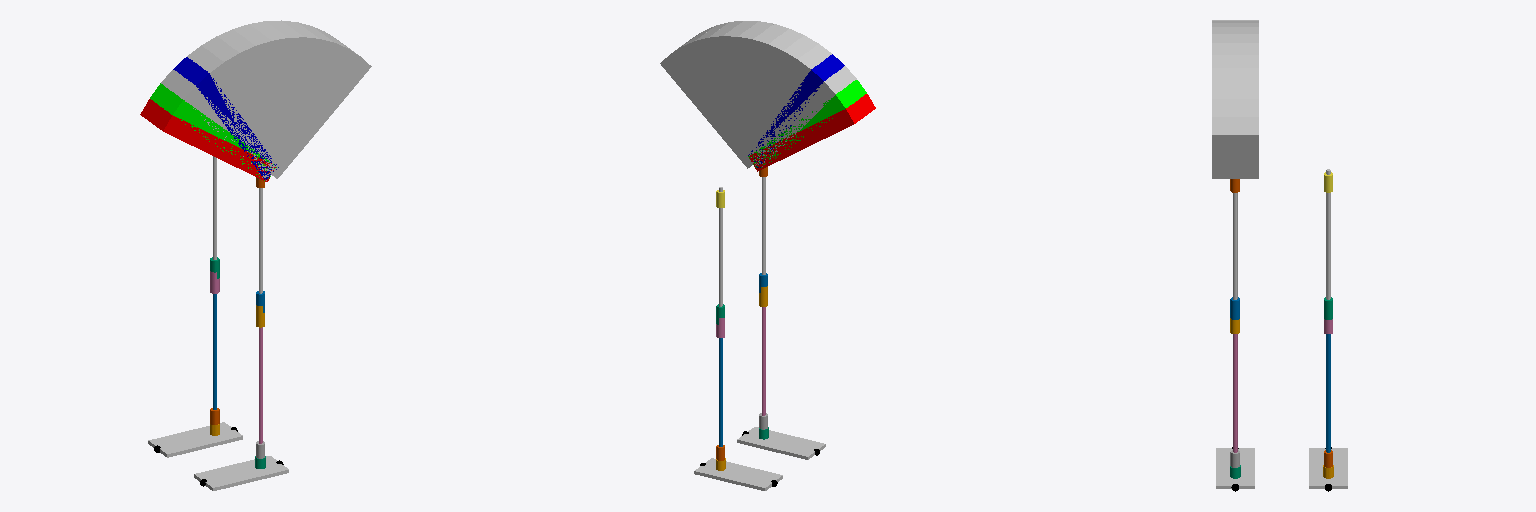
robot.urdf — spring_flamingo:
<?xml version="1.0" ?>
<!-- =================================================================================== -->
<!-- |    This document was autogenerated by xacro from spring_flamingo.xacro          | -->
<!-- |    EDITING THIS FILE BY HAND IS NOT RECOMMENDED                                 | -->
<!-- =================================================================================== -->
<!-- spring_flamingo revision 3 for questions/bugs/etc. email woursler@gmail.com-->
<robot name="spring_flamingo" xmlns:xacro="http://www.ros.org/wiki/xacro">
  <!-- body property xacros -->
  <!--measured relative to the center of the line connecting the hips-->
  <!-- upper leg property xacros -->
  <!-- lower leg property xacros -->
  <!-- foot property xacros -->
  <!-- Encapsulates the body code.-->
  <!-- Defines a ground contact point xacro-->
  <!-- Defines a leg xacro. Most of the action is here.-->
  <link name="base_link">
    <inertial>
      <origin rpy="0 0 0" xyz="0 0 0.20"/>
      <mass value="12"/>
      <inertia ixx=".25" ixy="0" ixz="0" iyy=".25" iyz="0" izz=".25"/>
    </inertial>
  </link>
  <link name="left_fan">
  </link>
  <joint name="left_fan_fixed_joint" type="fixed">
    <parent link="base_link"/>
    <child link="left_fan"/>
    <origin rpy="0 0 0" xyz="0 -0.12 0"/>
    <axis xyz="0 1 0"/>
  </joint>
  <link name="left_strut_1">
    <visual>
      <geometry>
        <box size="0.05 0.12 0.385"/>
      </geometry>
      <origin rpy="0 0 0" xyz="0 0 0.1925"/>
      <material name="grey">
        <color rgba="1.0 0.0 0.0 1"/>
      </material>
    </visual>
  </link>
  <joint name="left_fixed_joint_1" type="fixed">
    <parent link="left_fan"/>
    <child link="left_strut_1"/>
    <origin rpy="0 -0.959931089 0" xyz="0 0 0"/>
    <axis xyz="0 1 0"/>
  </joint>
  <link name="left_strut_2">
    <visual>
      <geometry>
        <box size="0.05 0.12 0.385"/>
      </geometry>
      <origin rpy="0 0 0" xyz="0 0 0.1925"/>
      <material name="grey">
        <color rgba="0.0 1.0 0.0 1"/>
      </material>
    </visual>
  </link>
  <joint name="left_fixed_joint_2" type="fixed">
    <parent link="left_fan"/>
    <child link="left_strut_2"/>
    <origin rpy="0 -0.831940277 0" xyz="0 0 0"/>
    <axis xyz="0 1 0"/>
  </joint>
  <link name="left_strut_3">
    <visual>
      <geometry>
        <box size="0.05 0.12 0.385"/>
      </geometry>
      <origin rpy="0 0 0" xyz="0 0 0.1925"/>
      <material name="grey">
        <color rgba=".8 .8 .8 1"/>
      </material>
    </visual>
  </link>
  <joint name="left_fixed_joint_3" type="fixed">
    <parent link="left_fan"/>
    <child link="left_strut_3"/>
    <origin rpy="0 -0.703949465 0" xyz="0 0 0"/>
    <axis xyz="0 1 0"/>
  </joint>
  <link name="left_strut_4">
    <visual>
      <geometry>
        <box size="0.05 0.12 0.385"/>
      </geometry>
      <origin rpy="0 0 0" xyz="0 0 0.1925"/>
      <material name="grey">
        <color rgba="0.0 0.0 .8 1"/>
      </material>
    </visual>
  </link>
  <joint name="left_fixed_joint_4" type="fixed">
    <parent link="left_fan"/>
    <child link="left_strut_4"/>
    <origin rpy="0 -0.575958653 0" xyz="0 0 0"/>
    <axis xyz="0 1 0"/>
  </joint>
  <link name="left_strut_5">
    <visual>
      <geometry>
        <box size="0.05 0.12 0.385"/>
      </geometry>
      <origin rpy="0 0 0" xyz="0 0 0.1925"/>
      <material name="grey">
        <color rgba=".8 .8 .8 1"/>
      </material>
    </visual>
  </link>
  <joint name="left_fixed_joint_5" type="fixed">
    <parent link="left_fan"/>
    <child link="left_strut_5"/>
    <origin rpy="0 -0.447967841 0" xyz="0 0 0"/>
    <axis xyz="0 1 0"/>
  </joint>
  <link name="left_strut_6">
    <visual>
      <geometry>
        <box size="0.05 0.12 0.385"/>
      </geometry>
      <origin rpy="0 0 0" xyz="0 0 0.1925"/>
      <material name="grey">
        <color rgba=".8 .8 .8 1"/>
      </material>
    </visual>
  </link>
  <joint name="left_fixed_joint_6" type="fixed">
    <parent link="left_fan"/>
    <child link="left_strut_6"/>
    <origin rpy="0 -0.319977029 0" xyz="0 0 0"/>
    <axis xyz="0 1 0"/>
  </joint>
  <link name="left_strut_7">
    <visual>
      <geometry>
        <box size="0.05 0.12 0.385"/>
      </geometry>
      <origin rpy="0 0 0" xyz="0 0 0.1925"/>
      <material name="grey">
        <color rgba=".8 .8 .8 1"/>
      </material>
    </visual>
  </link>
  <joint name="left_fixed_joint_7" type="fixed">
    <parent link="left_fan"/>
    <child link="left_strut_7"/>
    <origin rpy="0 -0.191986217 0" xyz="0 0 0"/>
    <axis xyz="0 1 0"/>
  </joint>
  <link name="left_strut_8">
    <visual>
      <geometry>
        <box size="0.05 0.12 0.385"/>
      </geometry>
      <origin rpy="0 0 0" xyz="0 0 0.1925"/>
      <material name="grey">
        <color rgba=".8 .8 .8 1"/>
      </material>
    </visual>
  </link>
  <joint name="left_fixed_joint_8" type="fixed">
    <parent link="left_fan"/>
    <child link="left_strut_8"/>
    <origin rpy="0 -0.063995405 0" xyz="0 0 0"/>
    <axis xyz="0 1 0"/>
  </joint>
  <link name="left_strut_9">
    <visual>
      <geometry>
        <box size="0.05 0.12 0.385"/>
      </geometry>
      <origin rpy="0 0 0" xyz="0 0 0.1925"/>
      <material name="grey">
        <color rgba=".8 .8 .8 1"/>
      </material>
    </visual>
  </link>
  <joint name="left_fixed_joint_9" type="fixed">
    <parent link="left_fan"/>
    <child link="left_strut_9"/>
    <origin rpy="0 0.063995407 0" xyz="0 0 0"/>
    <axis xyz="0 1 0"/>
  </joint>
  <link name="left_strut_10">
    <visual>
      <geometry>
        <box size="0.05 0.12 0.385"/>
      </geometry>
      <origin rpy="0 0 0" xyz="0 0 0.1925"/>
      <material name="grey">
        <color rgba=".8 .8 .8 1"/>
      </material>
    </visual>
  </link>
  <joint name="left_fixed_joint_10" type="fixed">
    <parent link="left_fan"/>
    <child link="left_strut_10"/>
    <origin rpy="0 0.191986219 0" xyz="0 0 0"/>
    <axis xyz="0 1 0"/>
  </joint>
  <link name="left_strut_11">
    <visual>
      <geometry>
        <box size="0.05 0.12 0.385"/>
      </geometry>
      <origin rpy="0 0 0" xyz="0 0 0.1925"/>
      <material name="grey">
        <color rgba=".8 .8 .8 1"/>
      </material>
    </visual>
  </link>
  <joint name="left_fixed_joint_11" type="fixed">
    <parent link="left_fan"/>
    <child link="left_strut_11"/>
    <origin rpy="0 0.319977031 0" xyz="0 0 0"/>
    <axis xyz="0 1 0"/>
  </joint>
  <link name="left_strut_12">
    <visual>
      <geometry>
        <box size="0.05 0.12 0.385"/>
      </geometry>
      <origin rpy="0 0 0" xyz="0 0 0.1925"/>
      <material name="grey">
        <color rgba=".8 .8 .8 1"/>
      </material>
    </visual>
  </link>
  <joint name="left_fixed_joint_12" type="fixed">
    <parent link="left_fan"/>
    <child link="left_strut_12"/>
    <origin rpy="0 0.447967843 0" xyz="0 0 0"/>
    <axis xyz="0 1 0"/>
  </joint>
  <link name="left_strut_13">
    <visual>
      <geometry>
        <box size="0.05 0.12 0.385"/>
      </geometry>
      <origin rpy="0 0 0" xyz="0 0 0.1925"/>
      <material name="grey">
        <color rgba=".8 .8 .8 1"/>
      </material>
    </visual>
  </link>
  <joint name="left_fixed_joint_13" type="fixed">
    <parent link="left_fan"/>
    <child link="left_strut_13"/>
    <origin rpy="0 0.575958655 0" xyz="0 0 0"/>
    <axis xyz="0 1 0"/>
  </joint>
  <link name="left_strut_14">
    <visual>
      <geometry>
        <box size="0.05 0.12 0.385"/>
      </geometry>
      <origin rpy="0 0 0" xyz="0 0 0.1925"/>
      <material name="grey">
        <color rgba=".8 .8 .8 1"/>
      </material>
    </visual>
  </link>
  <joint name="left_fixed_joint_14" type="fixed">
    <parent link="left_fan"/>
    <child link="left_strut_14"/>
    <origin rpy="0 0.703949467 0" xyz="0 0 0"/>
    <axis xyz="0 1 0"/>
  </joint>
  <link name="left_strut_15">
    <visual>
      <geometry>
        <box size="0.05 0.12 0.385"/>
      </geometry>
      <origin rpy="0 0 0" xyz="0 0 0.1925"/>
      <material name="grey">
        <color rgba=".8 .8 .8 1"/>
      </material>
    </visual>
  </link>
  <joint name="left_fixed_joint_15" type="fixed">
    <parent link="left_fan"/>
    <child link="left_strut_15"/>
    <origin rpy="0 0.831940279 0" xyz="0 0 0"/>
    <axis xyz="0 1 0"/>
  </joint>
  <link name="right_upper_leg">
    <visual>
      <geometry>
        <cylinder length="0.42" radius=".00565"/>
      </geometry>
      <origin rpy="0 1.57075 0" xyz="0.21 0 0"/>
      <material name="grey">
        <color rgba=".8 .8 .8 1"/>
      </material>
    </visual>
    <inertial>
      <origin rpy="0 0 0" xyz="0.21 0 0"/>
      <mass value="0.4598"/>
      <inertia ixx="0.01256" ixy="0" ixz="0" iyy="0.01256" iyz="0" izz="0.00013"/>
    </inertial>
  </link>
  <joint name="right_hip" type="continuous">
    <parent link="base_link"/>
    <child link="right_upper_leg"/>
    <origin rpy="0 1.57075 0" xyz="0 0.12 0"/>
    <axis xyz="0 1 0"/>
    <limit effort="300" lower="-1.25" upper="1.25" />
  </joint>
  <transmission name="right_hip_motor" type="SimpleTransmission">
    <actuator name="right_hip_motor"/>
    <joint name="right_hip"/>
    <mechanicalReduction>1</mechanicalReduction>
  </transmission>
  <link name="right_upper_leg2">
    <visual>
      <geometry>
        <cylinder length=".054" radius=".0125"/>
      </geometry>
    </visual>
  </link>
  <joint name="right_upper_legj2" type="fixed">
    <parent link="right_upper_leg"/>
    <child link="right_upper_leg2"/>
    <origin rpy="0 1.57075 0" xyz="0.393 0 0"/>
  </joint>
  <link name="right_upper_leg3">
    <visual>
      <geometry>
        <cylinder length="0.0478" radius=".0125"/>
      </geometry>
    </visual>
  </link>
  <joint name="right_upper_legj3" type="fixed">
    <parent link="right_upper_leg"/>
    <child link="right_upper_leg3"/>
    <origin rpy="0 1.57075 0" xyz="0.0349 0 0"/>
  </joint>
  <link name="right_lower_leg">
    <visual>
      <geometry>
        <cylinder length="0.42" radius=".00565"/>
      </geometry>
      <origin rpy="0 1.57075 0" xyz="0.21 0 0"/>
    </visual>
    <inertial>
      <origin rpy="0 0 0" xyz="0.21 0 0"/>
      <mass value="0.306"/>
      <inertia ixx="0.00952" ixy="0" ixz="0" iyy="0.00952" iyz="0" izz="5.67e-05"/>
    </inertial>
  </link>
  <joint name="right_knee" type="continuous">
    <parent link="right_upper_leg"/>
    <child link="right_lower_leg"/>
    <origin xyz="0.42 0 0"/>
    <axis xyz="0 1 0"/>
    <limit effort="300" lower="-1.5" upper="0" />
  </joint>
  <transmission name="right_knee_motor" type="SimpleTransmission">
    <actuator name="right_knee_motor"/>
    <joint name="right_knee"/>
    <mechanicalReduction>1</mechanicalReduction>
  </transmission>
  <link name="right_lower_leg2">
    <visual>
      <geometry>
        <cylinder length=".04" radius=".0125"/>
      </geometry>
    </visual>
  </link>
  <joint name="right_lower_legj2" type="fixed">
    <parent link="right_lower_leg"/>
    <child link="right_lower_leg2"/>
    <origin rpy="0 1.57075 0" xyz="0.4 0 0"/>
  </joint>
  <link name="right_lower_leg3">
    <visual>
      <geometry>
        <cylinder length="0.062" radius=".0125"/>
      </geometry>
    </visual>
  </link>
  <joint name="right_lower_legj3" type="fixed">
    <parent link="right_lower_leg"/>
    <child link="right_lower_leg3"/>
    <origin rpy="0 1.57075 0" xyz="0.01 0 0"/>
  </joint>
  <link name="right_foot">
    <visual>
      <geometry>
        <box size=".01 .1 .23"/>
      </geometry>
      <origin rpy="0 0 0" xyz=".035 0 -0.0575"/>
      <material name="grey">
        <color rgba=".8 .8 .8 1"/>
      </material>
    </visual>
    <inertial>
      <origin rpy="0 0 0" xyz=".035 0 -0.0575"/>
      <mass value="0.3466"/>
      <inertia ixx="7.15e-05" ixy="0" ixz="0" iyy="0.0015" iyz="0" izz="0.0015"/>
    </inertial>
  </link>
  <joint name="right_ankle" type="continuous">
    <parent link="right_lower_leg"/>
    <child link="right_foot"/>
    <origin xyz="0.42 0 0"/>
    <axis xyz="0 1 0"/>
    <limit lower="-1.1" upper="1.1" />
    <dynamics damping=".1" />
  </joint>
  <force_element name="spring">
    <torsional_spring stiffness="1" rest_angle="0">
      <joint name="right_ankle" />
    </torsional_spring>
  </force_element>
  <link name="right_foot2">
    <visual>
      <geometry>
        <cylinder length=".03" radius=".014"/>
      </geometry>
    </visual>
  </link>
  <joint name="right_footj2" type="fixed">
    <parent link="right_foot"/>
    <child link="right_foot2"/>
    <origin rpy="0 1.57075 0" xyz="0.015 0 0"/>
  </joint>
  <link name="right_forward_contact_point">
    <visual>
      <geometry>
        <sphere radius="0.01"/>
      </geometry>
      <material name="black">
        <color rgba="0 0 0 1"/>
      </material>
    </visual>
    <collision group="toe">
      <geometry>
        <sphere radius="0"/>
      </geometry>
    </collision>
  </link>
  <link name="right_rear_contact_point">
    <visual>
      <geometry>
        <sphere radius="0.01"/>
      </geometry>
      <material name="black">
        <color rgba="0 0 0 1"/>
      </material>
    </visual>
    <collision group="heel">
      <geometry>
        <sphere radius="0"/>
      </geometry>
    </collision>
  </link>
  <joint name="right_j1" type="fixed">
    <parent link="right_foot"/>
    <child link="right_forward_contact_point"/>
    <origin xyz=".035 0 -0.1725"/>
    <axis xyz="0 1 0"/>
  </joint>
  <joint name="right_j2" type="fixed">
    <parent link="right_foot"/>
    <child link="right_rear_contact_point"/>
    <origin xyz="0.035 0 0.0575"/>
    <axis xyz="0 1 0"/>
  </joint>
  <link name="left_upper_leg">
    <visual>
      <geometry>
        <cylinder length="0.42" radius=".00565"/>
      </geometry>
      <origin rpy="0 1.57075 0" xyz="0.21 0 0"/>
      <material name="grey">
        <color rgba=".8 .8 .8 1"/>
      </material>
    </visual>
    <inertial>
      <origin rpy="0 0 0" xyz="0.21 0 0"/>
      <mass value="0.4598"/>
      <inertia ixx="0.01256" ixy="0" ixz="0" iyy="0.01256" iyz="0" izz="0.00013"/>
    </inertial>
  </link>
  <joint name="left_hip" type="continuous">
    <parent link="base_link"/>
    <child link="left_upper_leg"/>
    <origin rpy="0 1.57075 0" xyz="0 -0.12 0"/>
    <axis xyz="0 1 0"/>
    <limit effort="300" lower="-1.25" upper="1.25" />
  </joint>
  <transmission name="left_hip_motor" type="SimpleTransmission">
    <actuator name="left_hip_motor"/>
    <joint name="left_hip"/>
    <mechanicalReduction>1</mechanicalReduction>
  </transmission>
  <link name="left_upper_leg2">
    <visual>
      <geometry>
        <cylinder length=".054" radius=".0125"/>
      </geometry>
    </visual>
  </link>
  <joint name="left_upper_legj2" type="fixed">
    <parent link="left_upper_leg"/>
    <child link="left_upper_leg2"/>
    <origin rpy="0 1.57075 0" xyz="0.393 0 0"/>
  </joint>
  <link name="left_upper_leg3">
    <visual>
      <geometry>
        <cylinder length="0.0478" radius=".0125"/>
      </geometry>
    </visual>
  </link>
  <joint name="left_upper_legj3" type="fixed">
    <parent link="left_upper_leg"/>
    <child link="left_upper_leg3"/>
    <origin rpy="0 1.57075 0" xyz="0.0349 0 0"/>
  </joint>
  <link name="left_lower_leg">
    <visual>
      <geometry>
        <cylinder length="0.42" radius=".00565"/>
      </geometry>
      <origin rpy="0 1.57075 0" xyz="0.21 0 0"/>
    </visual>
    <inertial>
      <origin rpy="0 0 0" xyz="0.21 0 0"/>
      <mass value="0.306"/>
      <inertia ixx="0.00952" ixy="0" ixz="0" iyy="0.00952" iyz="0" izz="5.67e-05"/>
    </inertial>
  </link>
  <joint name="left_knee" type="continuous">
    <parent link="left_upper_leg"/>
    <child link="left_lower_leg"/>
    <origin xyz="0.42 0 0"/>
    <axis xyz="0 1 0"/>
    <limit effort="300" lower="-1.5" upper="0" />
  </joint>
  <transmission name="left_knee_motor" type="SimpleTransmission">
    <actuator name="left_knee_motor"/>
    <joint name="left_knee"/>
    <mechanicalReduction>1</mechanicalReduction>
  </transmission>
  <link name="left_lower_leg2">
    <visual>
      <geometry>
        <cylinder length=".04" radius=".0125"/>
      </geometry>
    </visual>
  </link>
  <joint name="left_lower_legj2" type="fixed">
    <parent link="left_lower_leg"/>
    <child link="left_lower_leg2"/>
    <origin rpy="0 1.57075 0" xyz="0.4 0 0"/>
  </joint>
  <link name="left_lower_leg3">
    <visual>
      <geometry>
        <cylinder length="0.062" radius=".0125"/>
      </geometry>
    </visual>
  </link>
  <joint name="left_lower_legj3" type="fixed">
    <parent link="left_lower_leg"/>
    <child link="left_lower_leg3"/>
    <origin rpy="0 1.57075 0" xyz="0.01 0 0"/>
  </joint>
  <link name="left_foot">
    <visual>
      <geometry>
        <box size=".01 .1 .23"/>
      </geometry>
      <origin rpy="0 0 0" xyz=".035 0 -0.0575"/>
      <material name="grey">
        <color rgba=".8 .8 .8 1"/>
      </material>
    </visual>
    <inertial>
      <origin rpy="0 0 0" xyz=".035 0 -0.0575"/>
      <mass value="0.3466"/>
      <inertia ixx="7.15e-05" ixy="0" ixz="0" iyy="0.0015" iyz="0" izz="0.0015"/>
    </inertial>
  </link>
  <joint name="left_ankle" type="continuous">
    <parent link="left_lower_leg"/>
    <child link="left_foot"/>
    <origin xyz="0.42 0 0"/>
    <axis xyz="0 1 0"/>
    <dynamics damping=".1" />
    <limit lower="-1.1" upper="1.1" />
  </joint>
  <force_element name="spring">
    <torsional_spring stiffness="1" rest_angle="0">
      <joint name="left_ankle" />
    </torsional_spring>
  </force_element>
  <link name="left_foot2">
    <visual>
      <geometry>
        <cylinder length=".03" radius=".014"/>
      </geometry>
    </visual>
  </link>
  <joint name="left_footj2" type="fixed">
    <parent link="left_foot"/>
    <child link="left_foot2"/>
    <origin rpy="0 1.57075 0" xyz="0.015 0 0"/>
  </joint>
  <link name="left_forward_contact_point">
    <visual>
      <geometry>
        <sphere radius="0.01"/>
      </geometry>
      <material name="black">
        <color rgba="0 0 0 1"/>
      </material>
    </visual>
    <collision group="toe">
      <geometry>
        <sphere radius="0"/>
      </geometry>
    </collision>
  </link>
  <link name="left_rear_contact_point">
    <visual>
      <geometry>
        <sphere radius="0.01"/>
      </geometry>
      <material name="black">
        <color rgba="0 0 0 1"/>
      </material>
    </visual>
    <collision group="heel">
      <geometry>
        <sphere radius="0"/>
      </geometry>
    </collision>
  </link>
  <joint name="left_j1" type="fixed">
    <parent link="left_foot"/>
    <child link="left_forward_contact_point"/>
    <origin xyz=".035 0 -0.1725"/>
    <axis xyz="0 1 0"/>
  </joint>
  <joint name="left_j2" type="fixed">
    <parent link="left_foot"/>
    <child link="left_rear_contact_point"/>
    <origin xyz="0.035 0 0.0575"/>
    <axis xyz="0 1 0"/>
  </joint>
</robot>

--- Render facts (derived) ---
Views: 3 orthographic renders of the robot side by side, from view 1: azimuth 30°, elevation 25°; view 2: azimuth 150°, elevation 25°; view 3: azimuth 270°, elevation 25°.
Model spring_flamingo with 37 links and 36 joints (6 continuous, 30 fixed), rooted at base_link, posed all joints at 0.
Links seen in each view (by area): view 1: left_strut_1, left_strut_4, left_strut_5, right_foot, left_foot, left_strut_2, left_strut_6, left_strut_10, left_strut_7, left_strut_9, left_strut_11, left_strut_15 (+5 smaller); view 2: left_strut_1, left_strut_8, left_strut_3, left_strut_15, left_strut_10, left_strut_6, left_foot, left_strut_4, right_foot, left_strut_5, left_strut_2, left_strut_7 (+4 smaller); view 3: left_strut_15, right_foot, left_foot, left_strut_14, left_strut_13, left_strut_12, left_strut_11, right_lower_leg, left_lower_leg, left_strut_10, right_upper_leg, left_upper_leg.
Link boxes in pixels (x1=…): left_strut_1: x1=140, y1=99, x2=275, y2=181; left_strut_4: x1=173, y1=57, x2=278, y2=179; left_strut_5: x1=187, y1=46, x2=278, y2=177; right_foot: x1=148, y1=422, x2=242, y2=457; left_foot: x1=194, y1=456, x2=288, y2=490; left_strut_2: x1=150, y1=83, x2=276, y2=180; left_strut_6: x1=201, y1=36, x2=279, y2=177; left_strut_10: x1=265, y1=21, x2=303, y2=173; left_strut_7: x1=217, y1=29, x2=278, y2=176; left_strut_9: x1=250, y1=21, x2=287, y2=172; left_strut_11: x1=270, y1=20, x2=319, y2=174; left_strut_15: x1=272, y1=57, x2=371, y2=178; left_strut_1: x1=749, y1=94, x2=875, y2=171; left_strut_8: x1=745, y1=24, x2=788, y2=162; left_strut_3: x1=752, y1=66, x2=856, y2=166; left_strut_15: x1=660, y1=44, x2=752, y2=168; left_strut_10: x1=723, y1=21, x2=757, y2=162; left_strut_6: x1=746, y1=35, x2=818, y2=165; left_foot: x1=737, y1=427, x2=825, y2=459; left_strut_4: x1=748, y1=54, x2=844, y2=167; right_foot: x1=694, y1=458, x2=782, y2=490; left_strut_5: x1=750, y1=44, x2=831, y2=151; left_strut_2: x1=748, y1=80, x2=866, y2=167; left_strut_7: x1=747, y1=29, x2=803, y2=153; left_strut_15: x1=1212, y1=117, x2=1258, y2=178; right_foot: x1=1309, y1=448, x2=1347, y2=488; left_foot: x1=1216, y1=448, x2=1254, y2=488; left_strut_14: x1=1212, y1=99, x2=1258, y2=116; left_strut_13: x1=1212, y1=83, x2=1258, y2=98; left_strut_12: x1=1212, y1=68, x2=1258, y2=82; left_strut_11: x1=1212, y1=55, x2=1258, y2=67; right_lower_leg: x1=1326, y1=334, x2=1330, y2=452; left_lower_leg: x1=1233, y1=334, x2=1237, y2=452; left_strut_10: x1=1212, y1=43, x2=1258, y2=54; right_upper_leg: x1=1326, y1=169, x2=1330, y2=299; left_upper_leg: x1=1233, y1=193, x2=1237, y2=299.
Bounding box of the posed robot: 0.6312 × 0.35 × 1.27 m (x, y, z).
Geometry: primitives only (box / cylinder / sphere), no mesh files.
